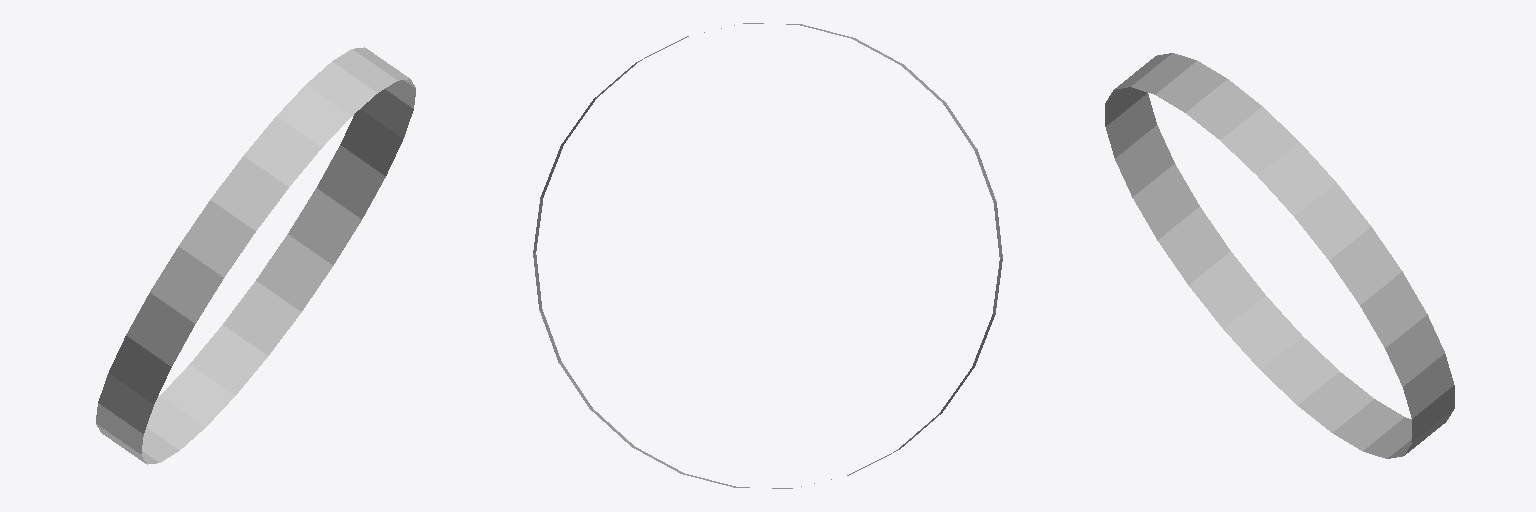
Rendered from IonPlasmaRingIn.obj.
3 views of the same model, side by side, from view 1: azimuth 30°, elevation 25°; view 2: azimuth 150°, elevation 25°; view 3: azimuth 270°, elevation 25° (orthographic).
Parts seen in each view (by area): view 1: Sphere_2; view 2: Sphere_2; view 3: Sphere_2.
Part boxes in pixels (bbox=[...]): Sphere_2: bbox=[96, 47, 415, 464]; Sphere_2: bbox=[533, 23, 1002, 488]; Sphere_2: bbox=[1105, 53, 1454, 458].
Size of the model in its own units: 0.023 by 0.0236 by 0.0186.